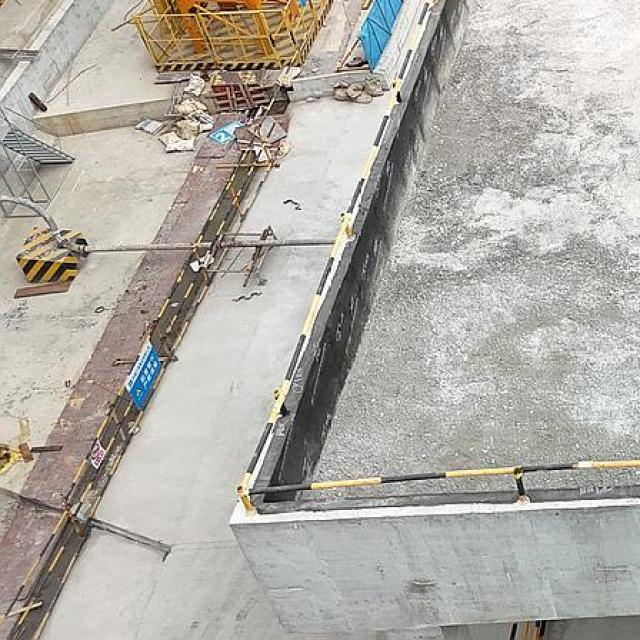Guardrail: (234, 0, 640, 516)
